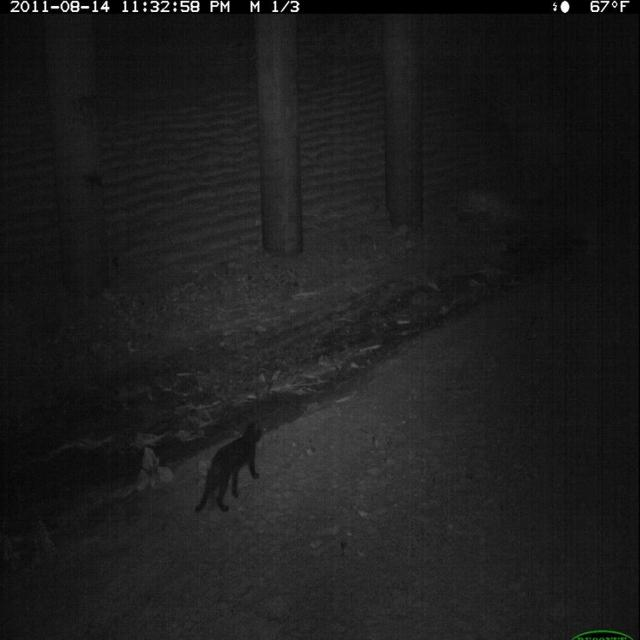cat: (191, 415, 270, 519)
